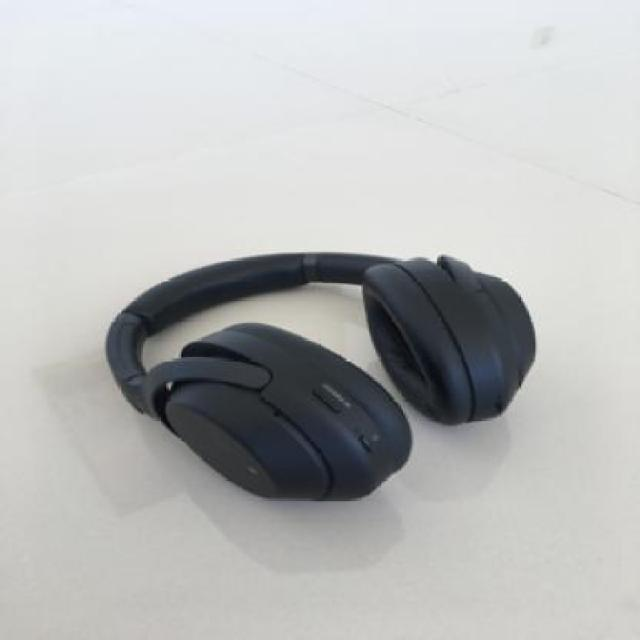earphone: (43, 82, 557, 525)
